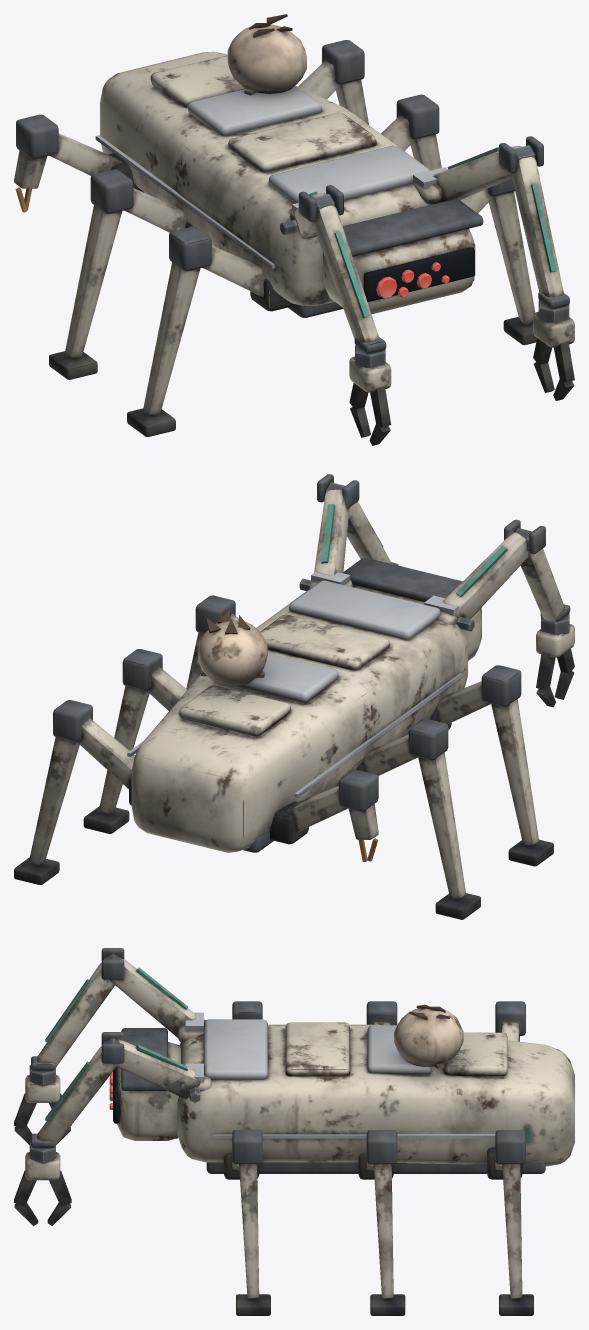
File: crawler.fbx
The picture shows the model from 3 angles, top to bottom: view 1: azimuth 30°, elevation 25°; view 2: azimuth 150°, elevation 25°; view 3: azimuth 270°, elevation 25°; orthographic projection. The views are drawn at different scales.
Parts seen in each view (by area): view 1: Torso, Head, Leg1, Leg2, Leg3, Leg4, Forearm, LeftForearm, LeftUpperArm, Leg6, Hand, LeftHand (+3 smaller); view 2: Torso, Leg1, Leg2, Leg6, Leg5, Leg3, UpperArm, Head, LeftUpperArm, Hand, Forearm, LeftForearm (+1 smaller); view 3: Torso, Head, Leg5, Leg6, Leg4, UpperArm, LeftUpperArm, Forearm, LeftForearm, Legs, LeftHand, Hand (+3 smaller).
Part boxes in pixels (x1,y1,x2,y2): Torso: (95,14,430,306); Head: (323,199,483,313); Leg1: (127,226,291,436); Leg2: (49,169,192,379); Leg3: (14,114,138,212); Leg4: (460,178,536,345); Forearm: (312,194,386,353); LeftForearm: (511,145,569,308); LeftUpperArm: (413,136,543,204); Leg6: (298,40,368,124); Hand: (349,345,391,445); LeftHand: (533,300,574,400); Torso: (127,580,467,852); Leg1: (430,665,553,866); Leg2: (356,718,480,919); Leg6: (14,700,135,884); Leg5: (83,649,186,833); Leg3: (269,769,378,861); UpperArm: (424,519,545,631); Head: (343,557,481,660); LeftUpperArm: (299,474,359,590); Hand: (536,613,574,707); Forearm: (514,528,570,621); LeftForearm: (325,482,398,565); Torso: (176,1004,574,1166); Head: (113,1028,180,1140); Leg5: (358,1130,405,1315); Leg6: (487,1130,533,1315); Leg4: (224,1130,270,1315); UpperArm: (101,948,205,1042); LeftUpperArm: (101,1032,211,1102); Forearm: (31,954,121,1070); LeftForearm: (31,1038,118,1148); Legs: (206,1159,545,1173); LeftHand: (14,1142,71,1225); Hand: (14,1065,71,1144).
Size of the model in its own units: 3.46 by 2.24 by 4.8.
1 material, 1 textured.
